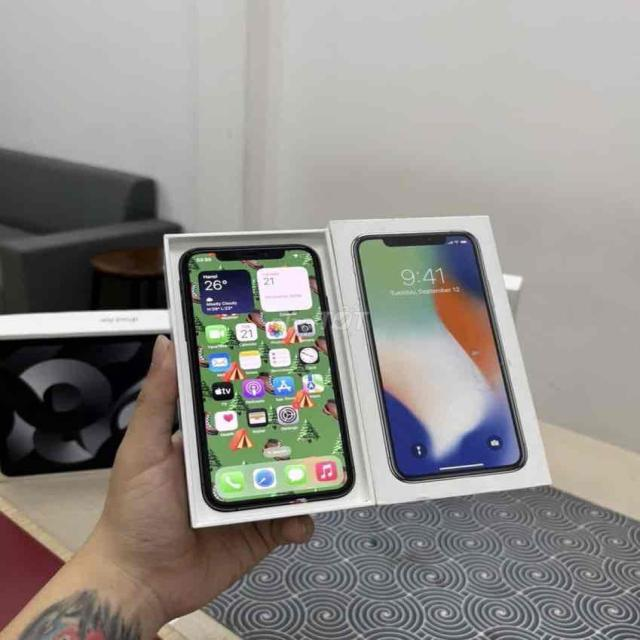gen_x_xs: (152, 216, 380, 508)
